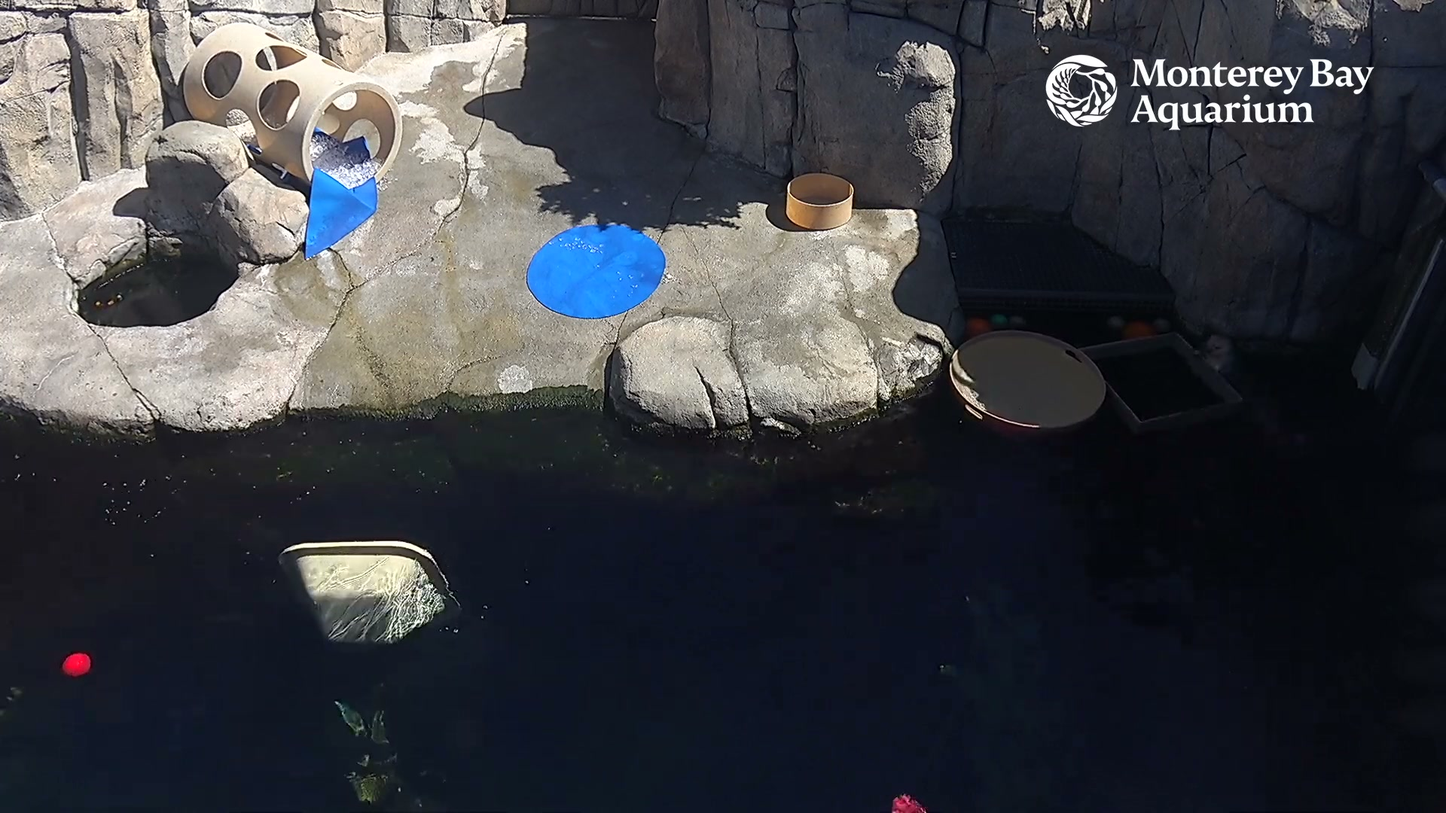Southern Sea Otter: (1181, 269, 1285, 458)
